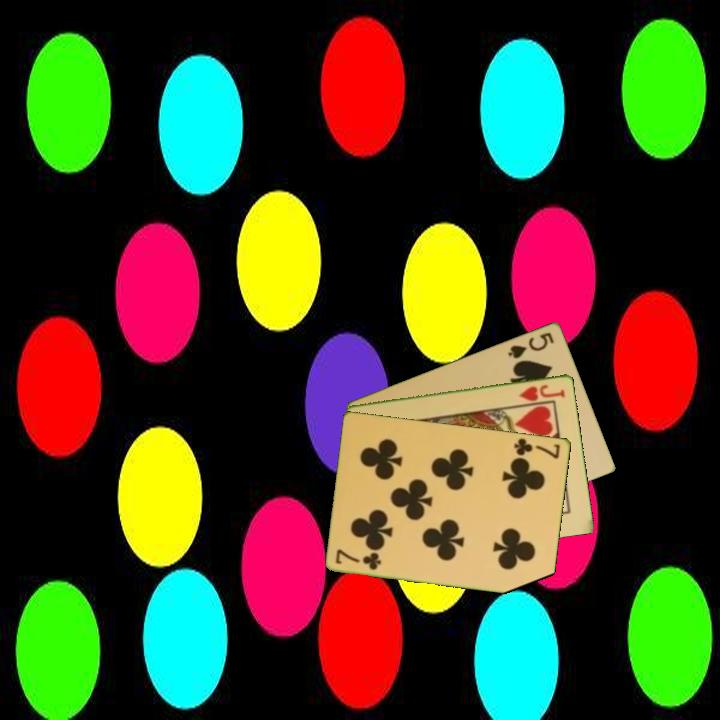5s: (505, 328, 557, 361)
7c: (332, 545, 384, 573), (511, 434, 563, 461)
Jh: (516, 381, 568, 404)
